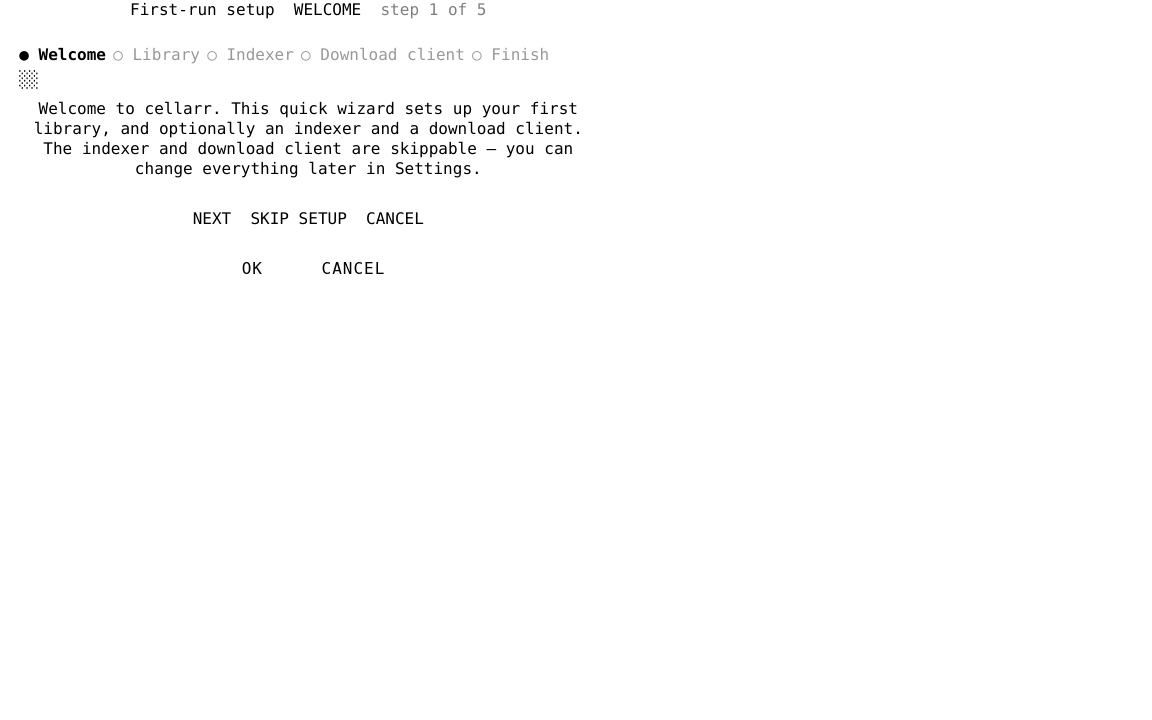
Test case: First-run wizard › walks the steps and POSTs the library with a default quality profile on finish
Click the button "Next" at (212, 218), box x1=193 y1=209 x2=231 y2=228
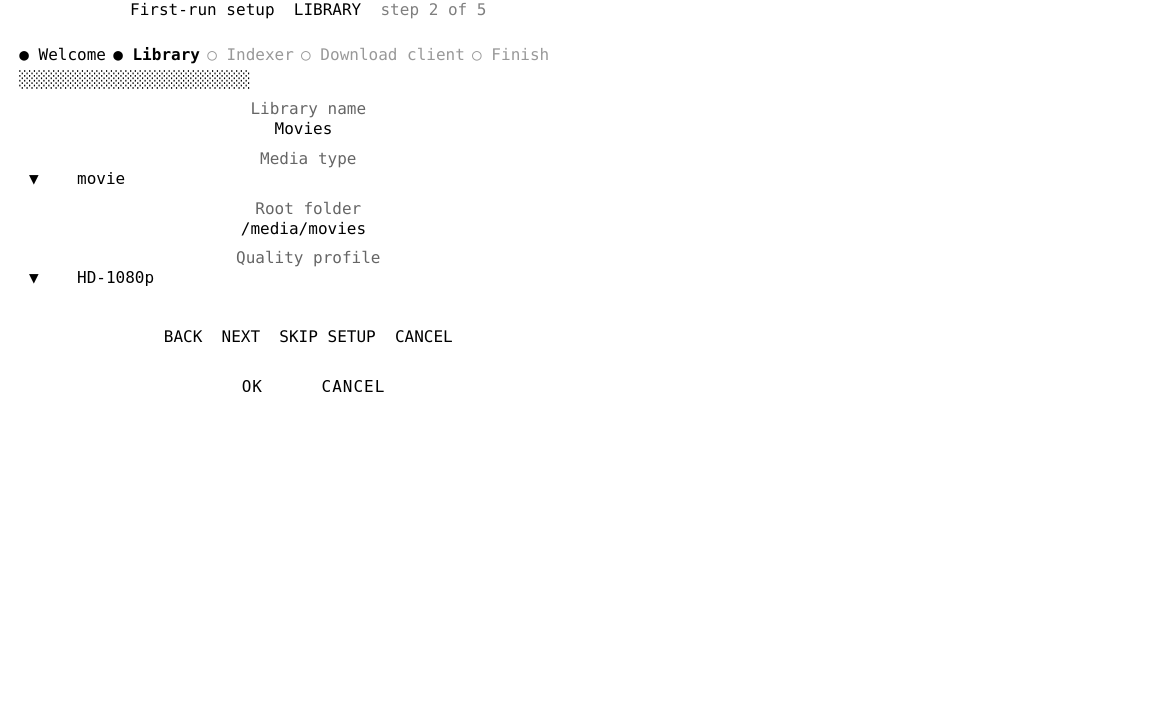
Check: the field named "Library name" is shown
Replace the text in the field named "Library name" with "Films" at (308, 129), box x1=19 y1=119 x2=597 y2=139
Replace the text in the field named "Root folder" with "/m/films" at (308, 228), box x1=19 y1=218 x2=597 y2=238
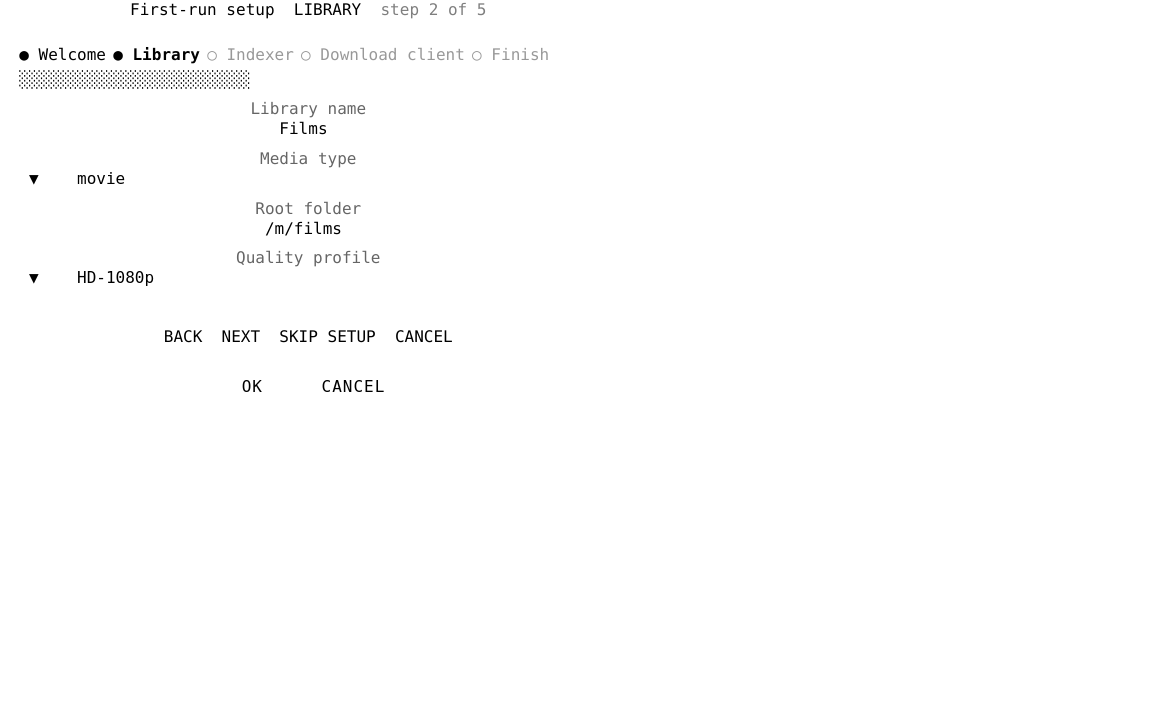
Click the button "Next" at (241, 337), box x1=222 y1=327 x2=260 y2=346
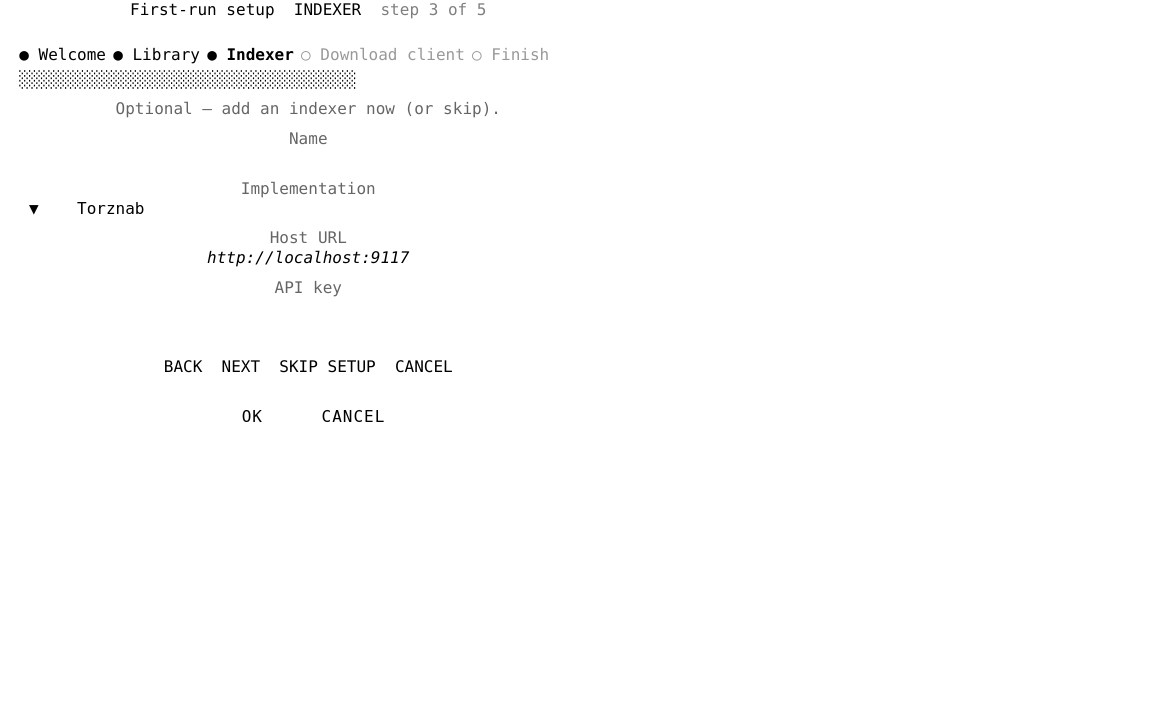
Click the button "Next" at (241, 366), box x1=222 y1=357 x2=260 y2=376
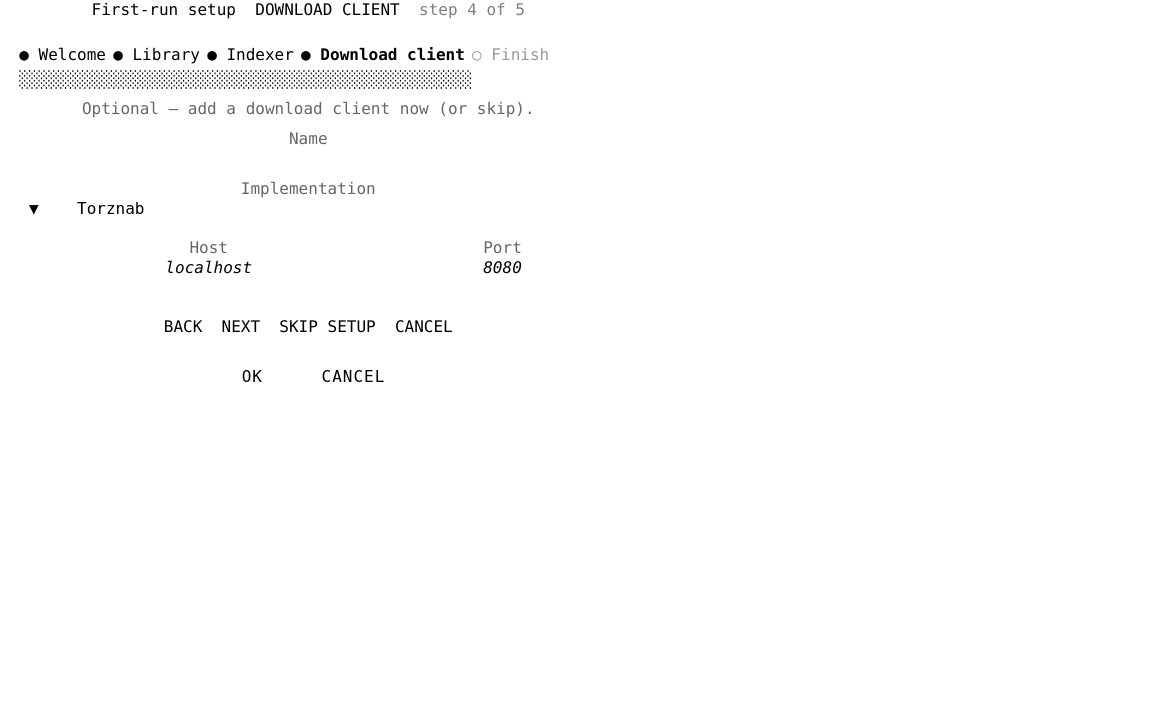
Click the button "Next" at (241, 326), box x1=222 y1=317 x2=260 y2=336
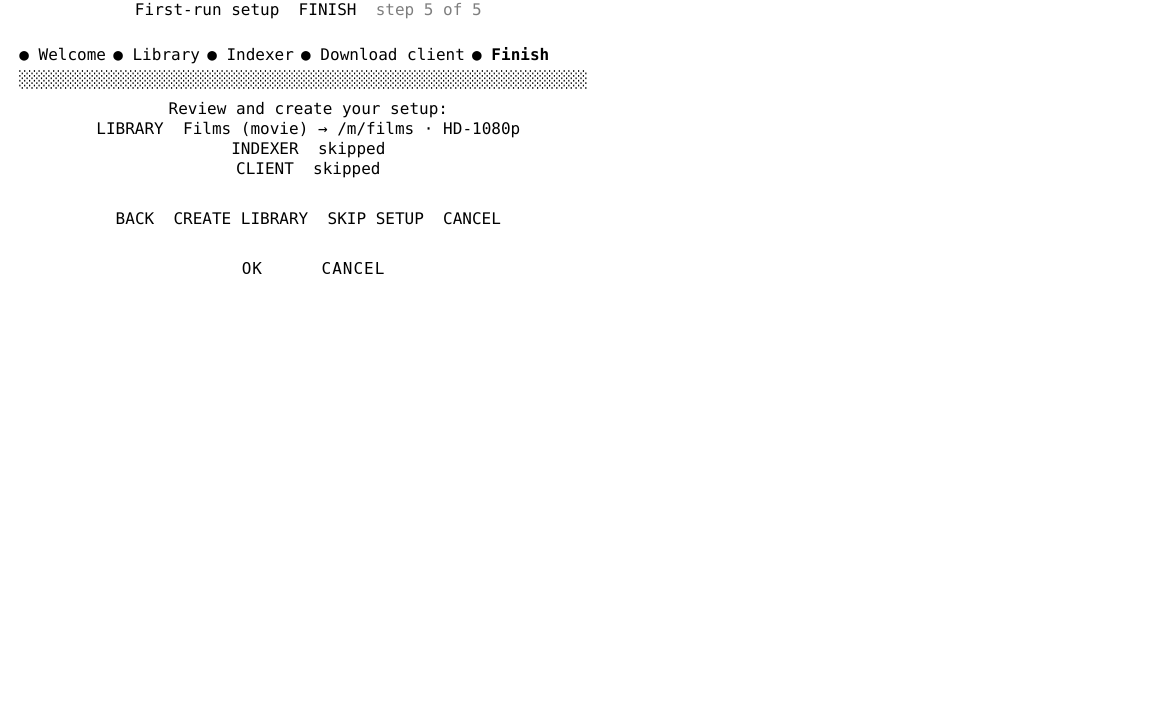
Check: the text "Create library" is shown
Click the button "Create library" at (241, 219), box x1=164 y1=209 x2=318 y2=229
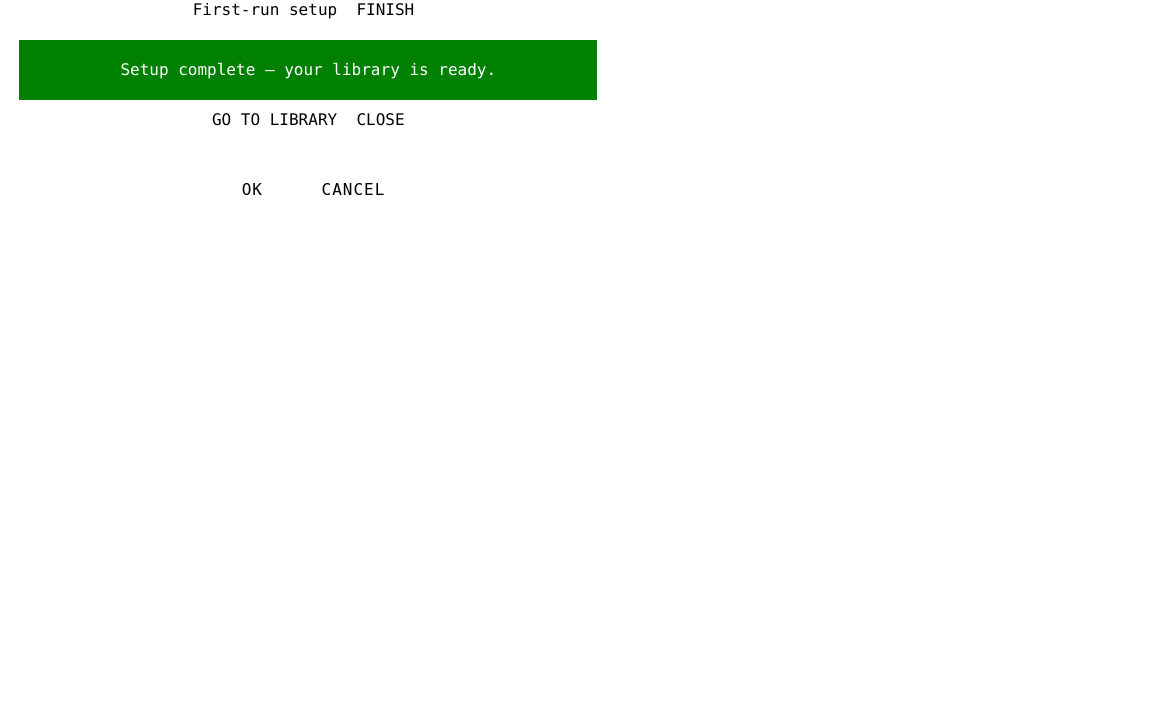
Check: the text "Setup complete — your library is ready." is shown, box x1=19 y1=40 x2=597 y2=100
